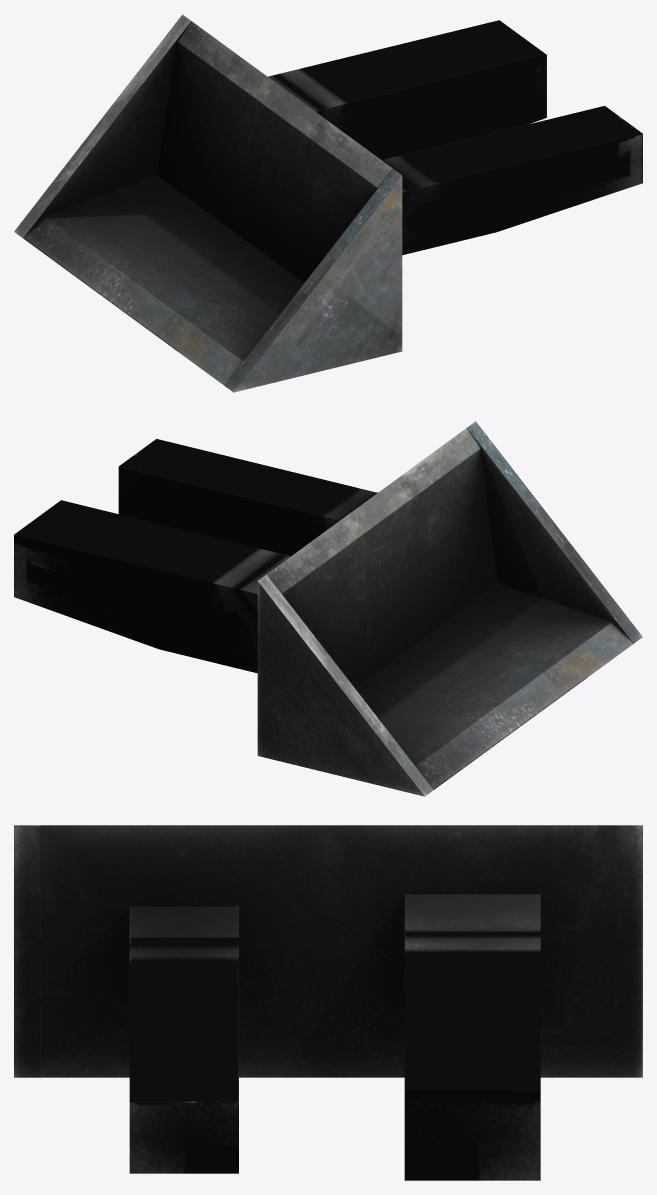
File: scoop.dae
3 renders of one model, top to bottom at view 1: azimuth 30°, elevation 25°; view 2: azimuth 150°, elevation 25°; view 3: azimuth 270°, elevation 25°, orthographic. The views are drawn at different scales.
Parts seen in each view (by area): view 1: Cube.014; view 2: Cube.014; view 3: Cube.014.
Boxes of the visible parts, x1,y1,x2,y2 form: Cube.014: (14, 14, 642, 392); Cube.014: (14, 421, 642, 796); Cube.014: (14, 825, 642, 1180).
Bounding box in the file's own units: 4.38 × 3.71 × 1.64.
